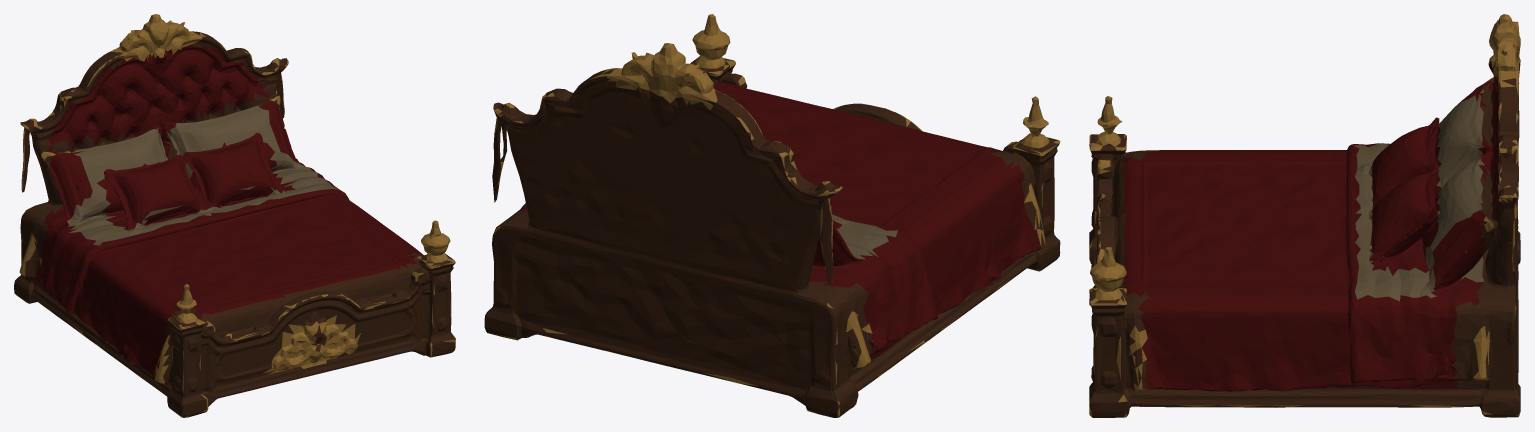
File: cama_de_casal.glb
The picture shows the model from 3 angles, left to right: view 1: azimuth 30°, elevation 25°; view 2: azimuth 150°, elevation 25°; view 3: azimuth 270°, elevation 25°; orthographic projection. The views are drawn at different scales.
Visible parts, largest first — view 1: tmpuqt24kow.ply; view 2: tmpuqt24kow.ply; view 3: tmpuqt24kow.ply.
Part boxes in pixels (bbox=[...]): tmpuqt24kow.ply: bbox=[14, 14, 455, 417]; tmpuqt24kow.ply: bbox=[484, 14, 1060, 417]; tmpuqt24kow.ply: bbox=[1089, 14, 1520, 417].
Bounding box in the file's own units: 1.96 × 1.63 × 1.96.
